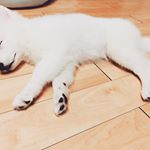puppy: (1, 6, 148, 117)
